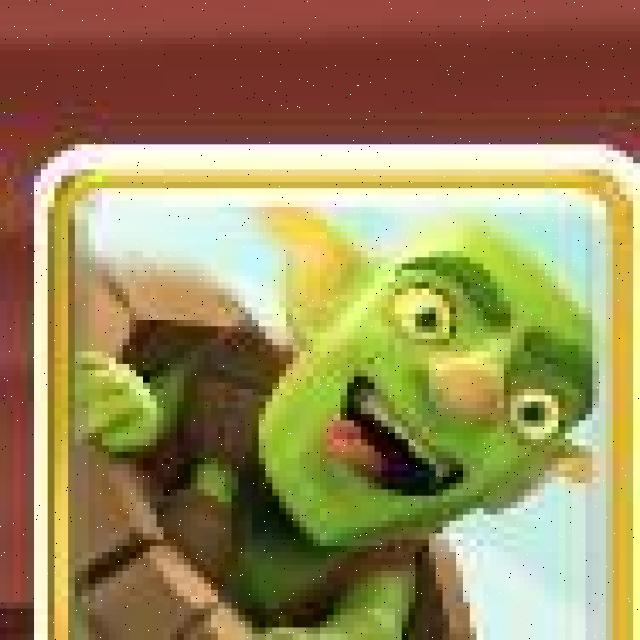Goblin_Barrel: (34, 143, 640, 640)
